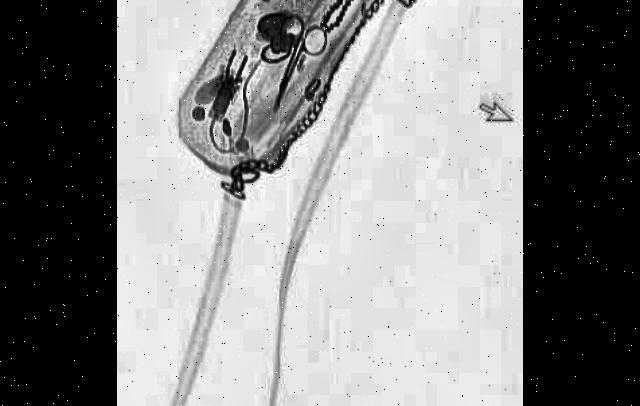Scissors: (259, 0, 330, 129)
